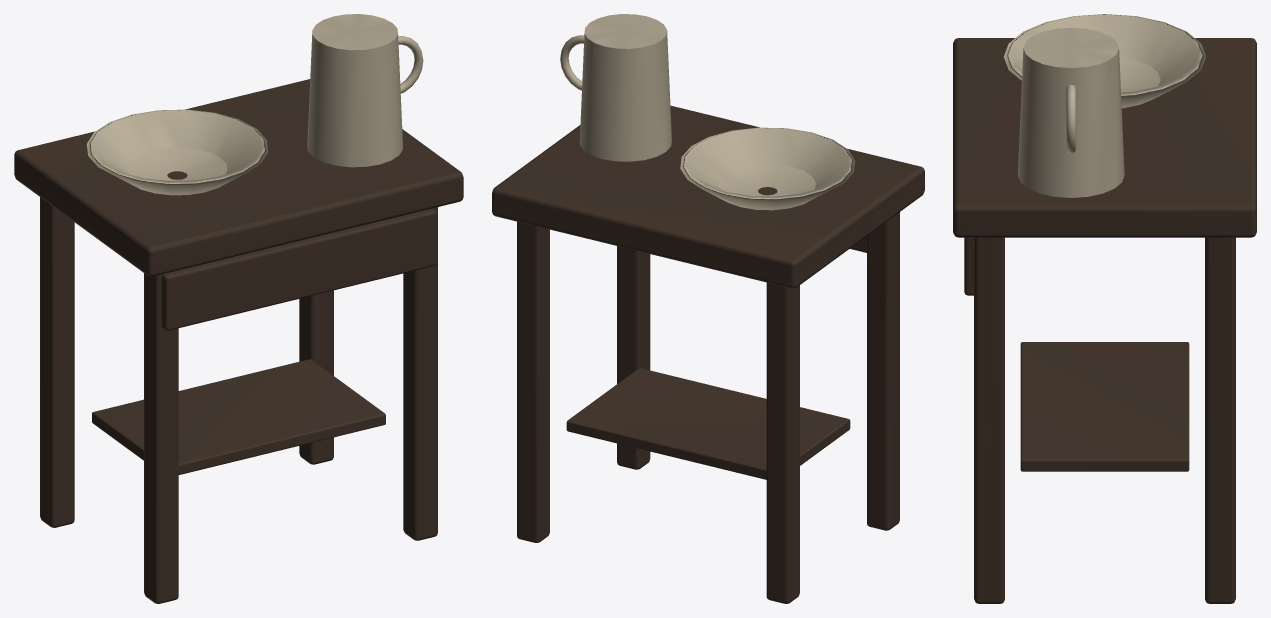
The model's file is prop-washstand-v01.glb.
3 renders of one model, left to right at view 1: azimuth 30°, elevation 25°; view 2: azimuth 150°, elevation 25°; view 3: azimuth 270°, elevation 25°, orthographic. The views are drawn at different scales.
Parts seen in each view (by area): view 1: washstand; view 2: washstand; view 3: washstand.
Boxes of the visible parts, x1,y1,x2,y2 form: washstand: (14,14,463,603); washstand: (492,14,924,603); washstand: (953,14,1256,603).
Size of the model in its own units: 0.744 by 1.05 by 0.54.
